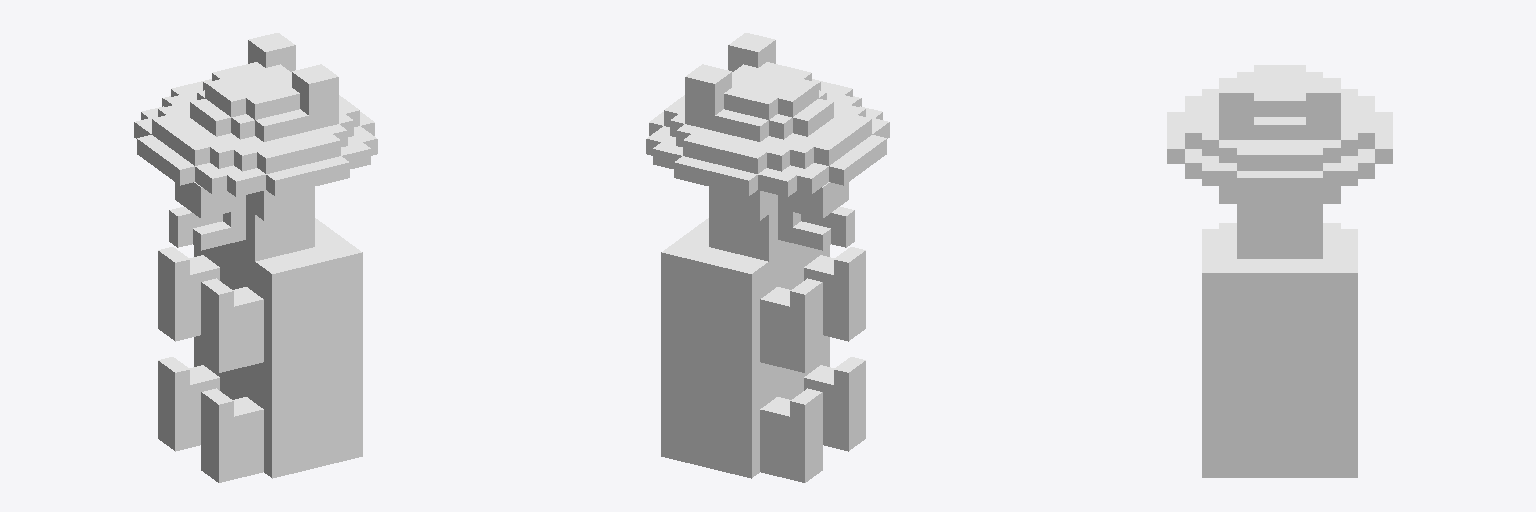
File: llamawithahat.obj
The picture shows the model from 3 angles: view 1: azimuth 30°, elevation 25°; view 2: azimuth 150°, elevation 25°; view 3: azimuth 270°, elevation 25°; orthographic projection.
Visible parts, largest first — view 1: llamawithahat; view 2: llamawithahat; view 3: llamawithahat.
Boxes of the visible parts, x1=… form: llamawithahat: x1=134, y1=33, x2=377, y2=482; llamawithahat: x1=646, y1=33, x2=889, y2=482; llamawithahat: x1=1167, y1=65, x2=1392, y2=477.
Size of the model in its own units: 13 by 24 by 13.